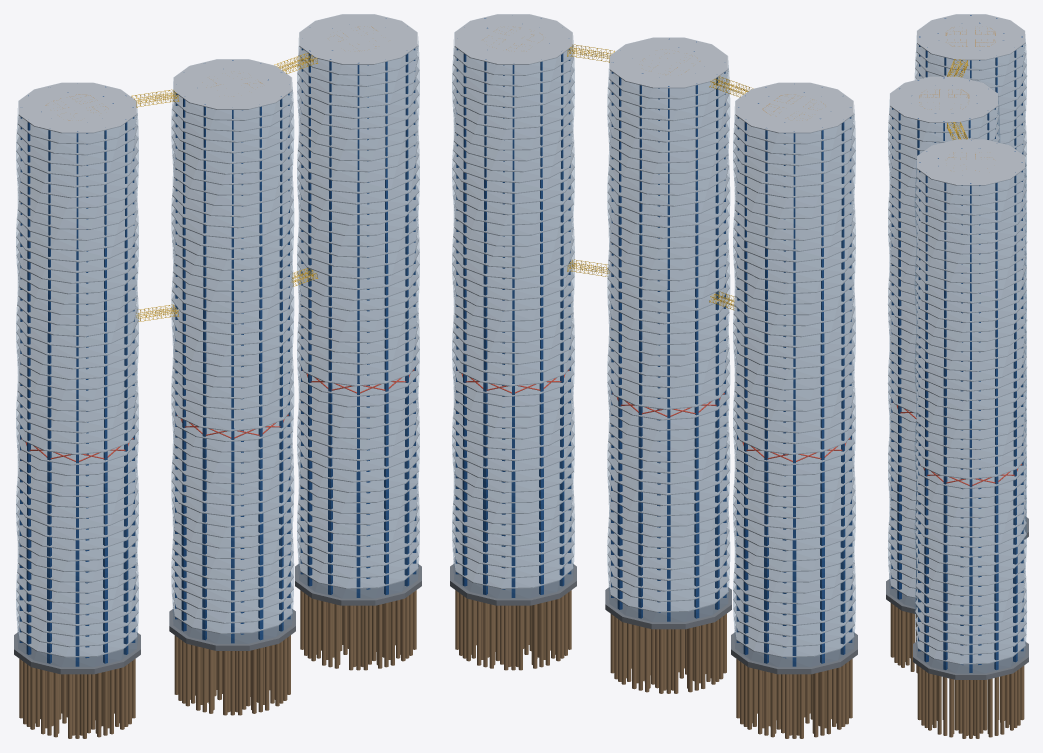
File: structure.glb
3 renders of one model, left to right at view 1: azimuth 30°, elevation 25°; view 2: azimuth 150°, elevation 25°; view 3: azimuth 270°, elevation 25°, orthographic. The views are drawn at different scales.
Visible parts, largest first — view 1: X_glass, X_floors, X_columns, X_piles, X_raft, X_bridges, X_bracing; view 2: X_glass, X_floors, X_columns, X_piles, X_raft, X_bridges, X_bracing; view 3: X_floors, X_glass, X_columns, X_piles, X_raft, X_bridges, X_core, X_bracing.
Part boxes in pixels (<box>): X_glass: <box>16,40,419,666</box>; X_floors: <box>16,14,419,657</box>; X_columns: <box>19,18,416,666</box>; X_piles: <box>19,590,416,738</box>; X_raft: <box>14,564,421,674</box>; X_bridges: <box>131,53,317,321</box>; X_bracing: <box>21,369,414,461</box>; X_glass: <box>452,40,855,666</box>; X_floors: <box>452,14,855,657</box>; X_columns: <box>455,18,852,666</box>; X_piles: <box>455,590,852,738</box>; X_raft: <box>450,564,857,674</box>; X_bridges: <box>567,44,753,310</box>; X_bracing: <box>457,369,850,461</box>; X_floors: <box>888,14,1026,664</box>; X_glass: <box>888,34,1026,672</box>; X_columns: <box>891,15,1023,672</box>; X_piles: <box>890,603,1024,738</box>; X_raft: <box>886,516,1028,679</box>; X_bridges: <box>946,59,968,139</box>; X_core: <box>919,27,995,171</box>; X_bracing: <box>893,402,1022,485</box>.
Bounding box in the file's own units: 0.765 × 1.14 × 0.265.
